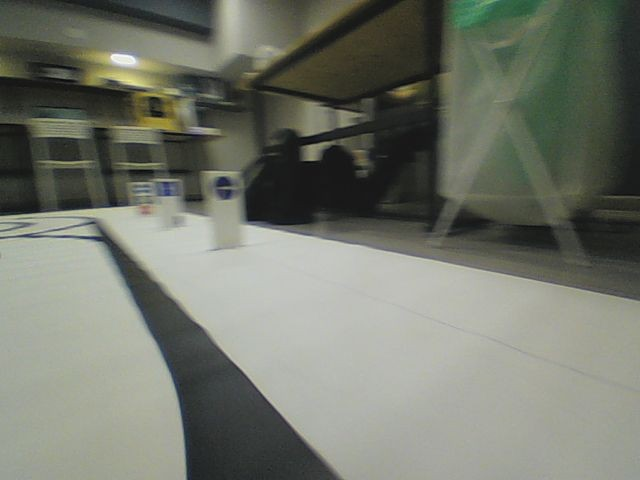Right: (212, 176, 240, 200)
